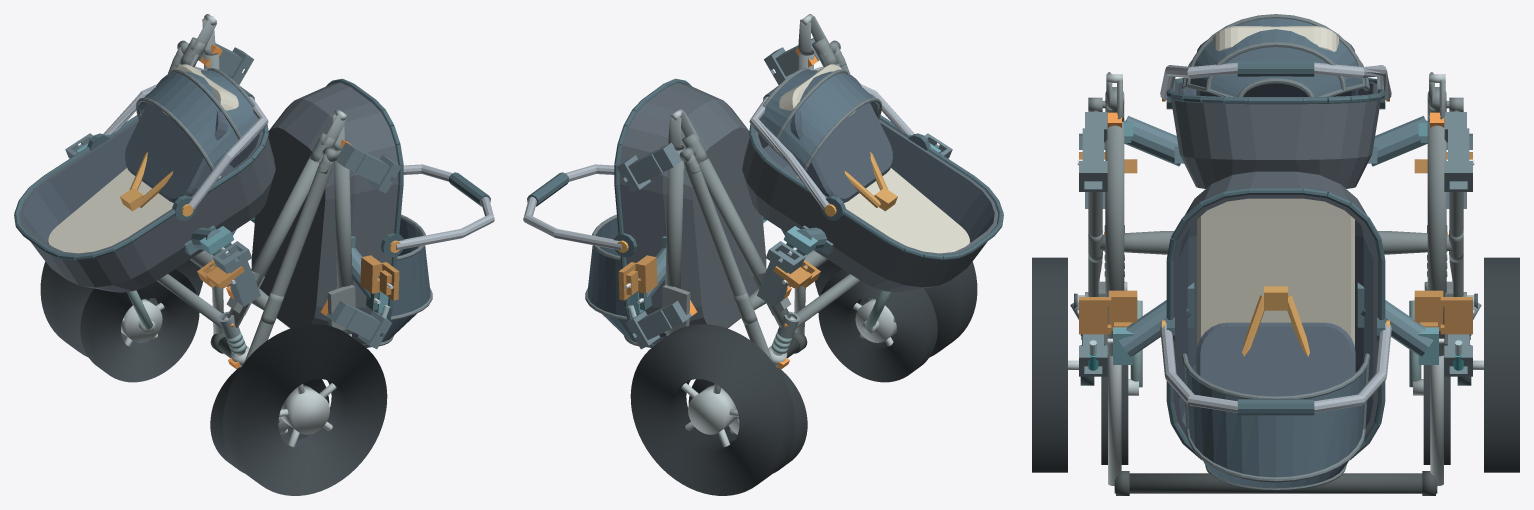
Rendered from D04_w650_state3_wheel_L.glb.
3 renders of one model, left to right at view 1: azimuth 30°, elevation 25°; view 2: azimuth 150°, elevation 25°; view 3: azimuth 270°, elevation 25°, orthographic. The views are drawn at different scales.
Parts seen in each view (by area): view 1: D04_Lower, D04_Upper, RL_tire.008, FR_tire.008, RR_tire.008, V46_rear_leg_-1.009, main_lower_-1.009, main_upper_-1.009, RL_sealed_hub.008, Universal_Cabin_Receiver_M_-1, Universal_Cabin_Receiver_L_-1, Universal_Cabin_Receiver_H_-1 (+9 smaller); view 2: D04_Lower, D04_Upper, RR_tire.008, FL_tire.008, RL_tire.008, V46_rear_leg_1.009, main_lower_1.009, main_upper_1.009, RR_sealed_hub.008, Universal_Cabin_Receiver_M_1, Universal_Cabin_Receiver_L_1, Universal_Cabin_Receiver_H_1 (+9 smaller); view 3: D04_Upper, D04_Lower, RL_tire.008, RR_tire.008, D04_Upper_Mount_H, round_handle.008, main_upper_1.009, main_upper_-1.009, D04_Lower_Mount_L, D02_WideAdapter_H_-1, D02_WideAdapter_H_1, V46_rearbar.009 (+10 smaller).
Boxes of the visible parts, box(x1,y1,x2,y2) form: D04_Lower: box(14, 64, 275, 292); D04_Upper: box(251, 78, 494, 347); RL_tire.008: box(222, 324, 387, 495); FR_tire.008: box(80, 269, 199, 382); RR_tire.008: box(40, 260, 202, 357); V46_rear_leg_-1.009: box(244, 161, 333, 362); main_lower_-1.009: box(227, 156, 322, 327); main_upper_-1.009: box(333, 148, 353, 334); RL_sealed_hub.008: box(281, 385, 329, 434); Universal_Cabin_Receiver_M_-1: box(336, 142, 401, 193); Universal_Cabin_Receiver_L_-1: box(212, 241, 260, 306); Universal_Cabin_Receiver_H_-1: box(326, 300, 391, 349); D04_Lower: box(742, 64, 1003, 292); D04_Upper: box(523, 78, 766, 347); RR_tire.008: box(630, 324, 795, 495); FL_tire.008: box(818, 269, 937, 382); RL_tire.008: box(815, 260, 977, 357); V46_rear_leg_1.009: box(684, 161, 773, 362); main_lower_1.009: box(695, 156, 790, 327); main_upper_1.009: box(664, 146, 684, 334); RR_sealed_hub.008: box(688, 385, 736, 434); Universal_Cabin_Receiver_M_1: box(616, 142, 681, 193); Universal_Cabin_Receiver_L_1: box(757, 241, 805, 306); Universal_Cabin_Receiver_H_1: box(626, 300, 691, 349); D04_Upper: box(1160, 171, 1391, 491); D04_Lower: box(1160, 14, 1391, 188); RL_tire.008: box(1032, 257, 1067, 472); RR_tire.008: box(1484, 257, 1519, 472); D04_Upper_Mount_H: box(1107, 282, 1444, 364); round_handle.008: box(1114, 473, 1437, 493); main_upper_1.009: box(1427, 120, 1446, 356); main_upper_-1.009: box(1105, 120, 1124, 356); D04_Lower_Mount_L: box(1124, 116, 1427, 166); D02_WideAdapter_H_-1: box(1077, 290, 1137, 334); D02_WideAdapter_H_1: box(1414, 290, 1474, 334); V46_rearbar.009: box(1100, 231, 1451, 254).
Size of the model in its own units: 1.06 by 0.8045 by 0.8171.
